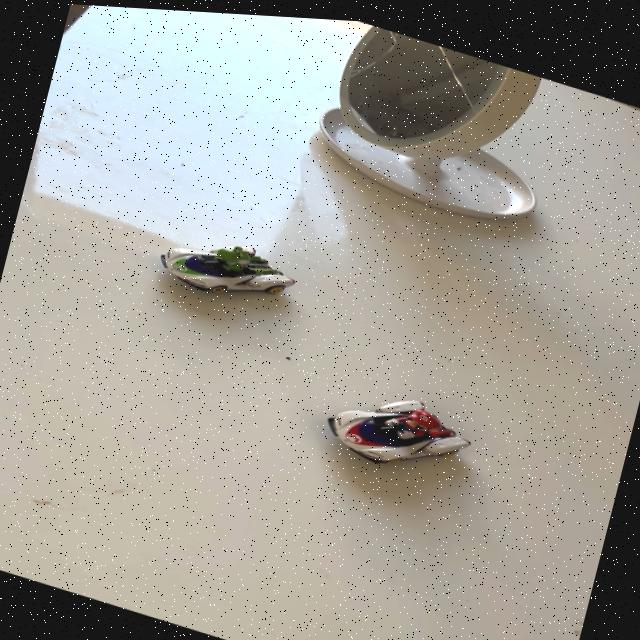mario: (306, 360, 497, 495)
yoshi: (143, 213, 313, 325)
